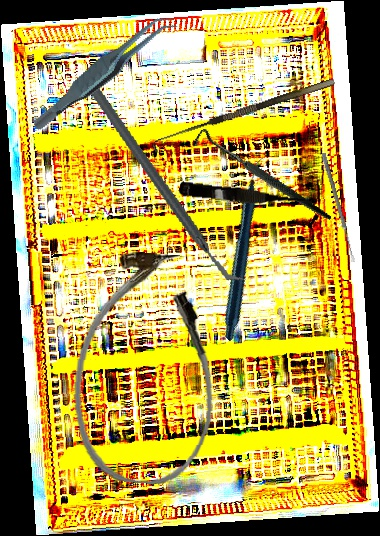Cannula: (66, 247, 226, 489)
Chopper: (87, 66, 246, 304)
Handpiece: (153, 157, 339, 342)
Hook Surgical: (188, 95, 332, 261), (150, 78, 339, 154)
Micro Scissor: (178, 181, 312, 212)
Surgical Spoon: (320, 152, 357, 263)
Tissue Forceps: (15, 10, 193, 133)
